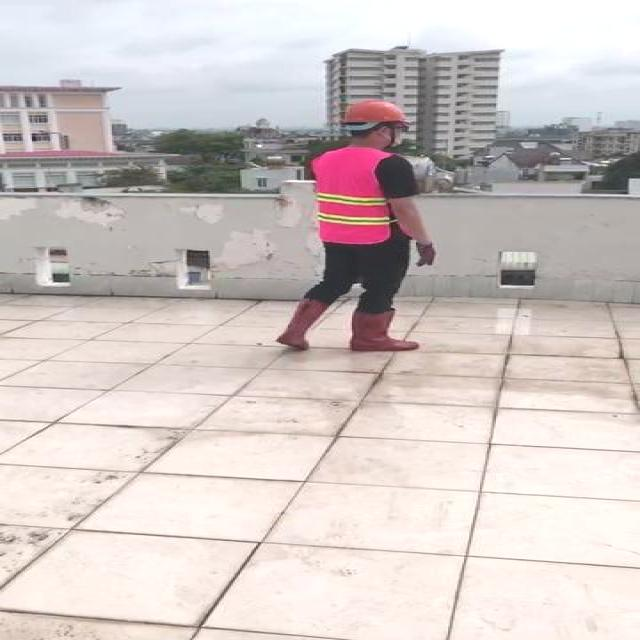boots: (276, 300, 332, 351), (350, 312, 418, 353)
hand_glove: (414, 240, 436, 265)
head_helmet: (342, 96, 419, 131)
person: (260, 90, 453, 358)
vest: (318, 151, 398, 245)
